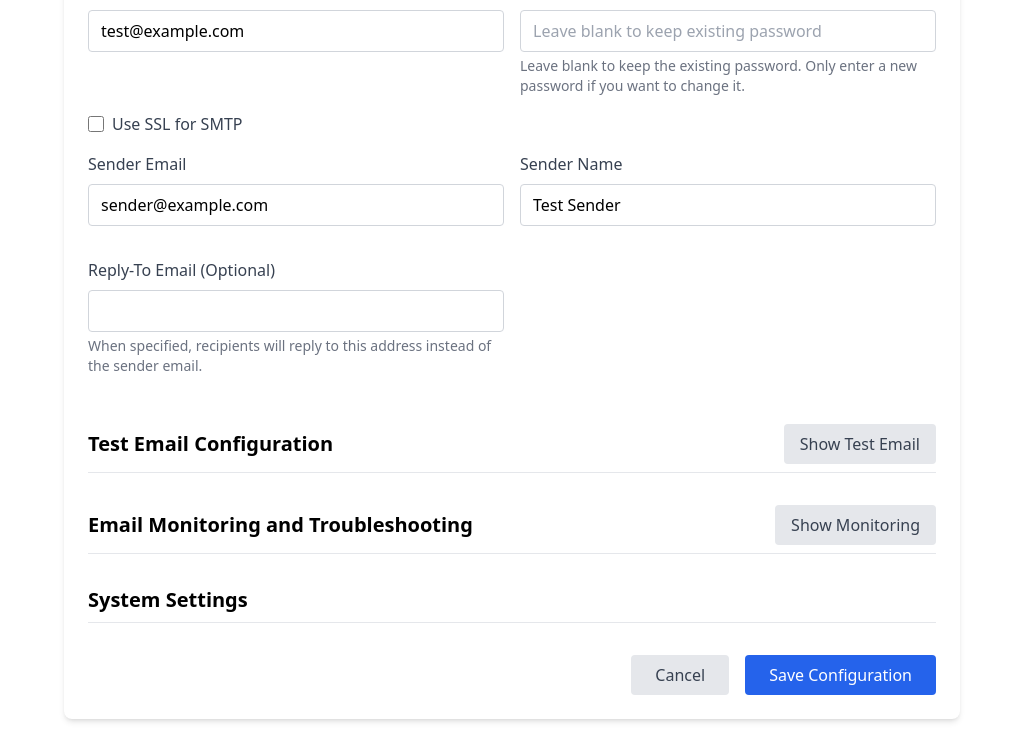
Test: Test Email Functionality › Basic Test Email Sending › should handle test email failure gracefully
(page scrolled)
Expand the Test Email Configuration section
Click the button "Show Test Email": (860, 444) [784,424,936,464]
(page scrolled)
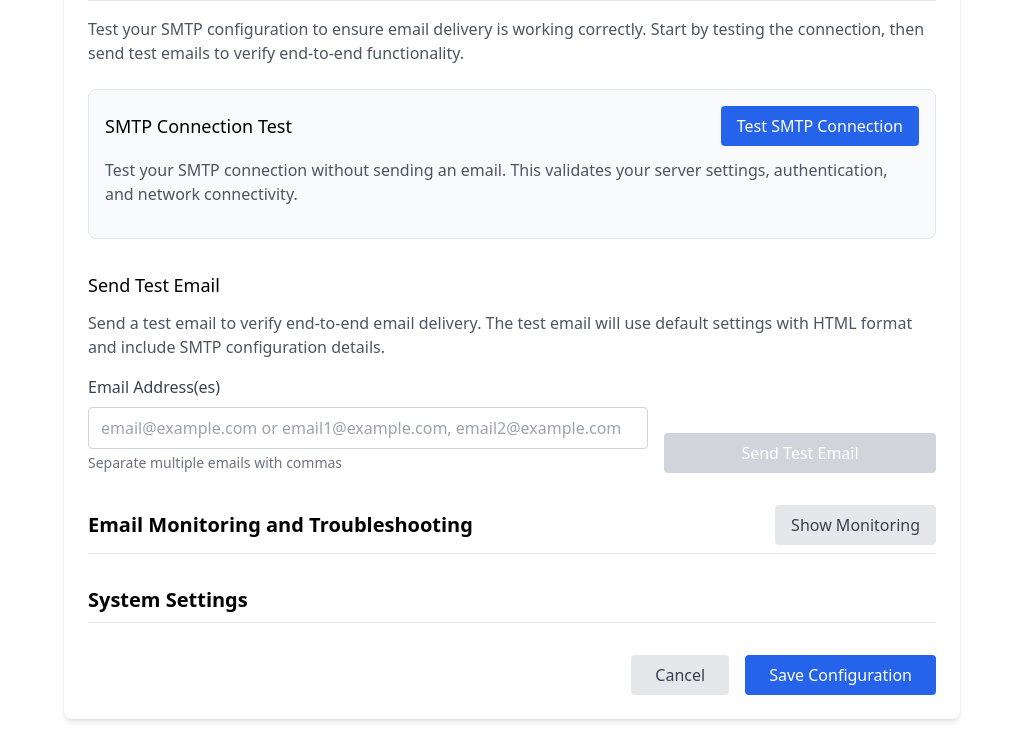
Result: the field with placeholder "email@example.com or email1@example.com, email2@example.com" is shown
Fill email address
In the field with placeholder "email@example.com or email1@example.com, email2@example.com": (368, 428) [88,407,648,449], type "test@example.com"
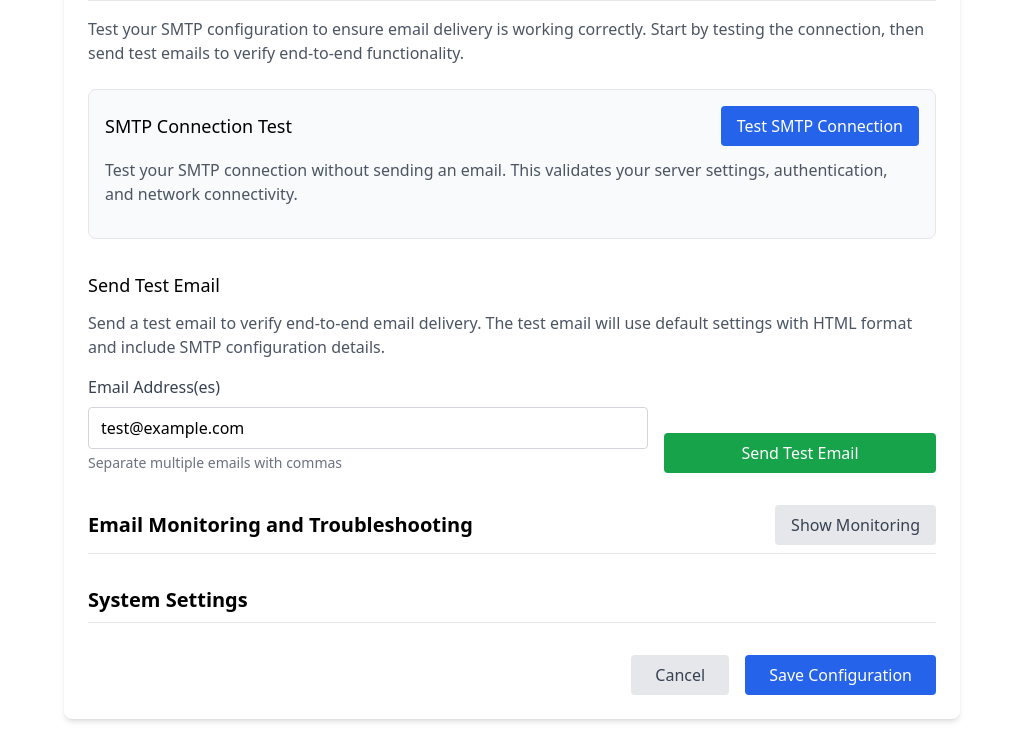
Click send test email button
Click the button "Send Test Email": (800, 453) [664,433,936,473]
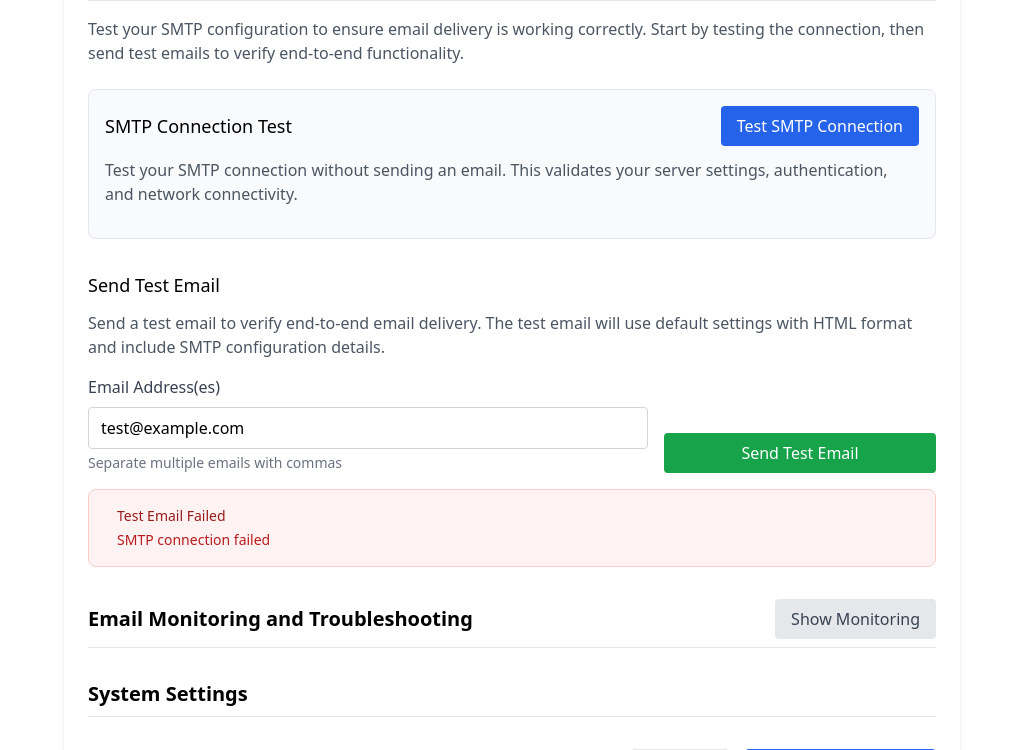
Result: the text "SMTP connection failed" is shown at [117,530,270,550]
